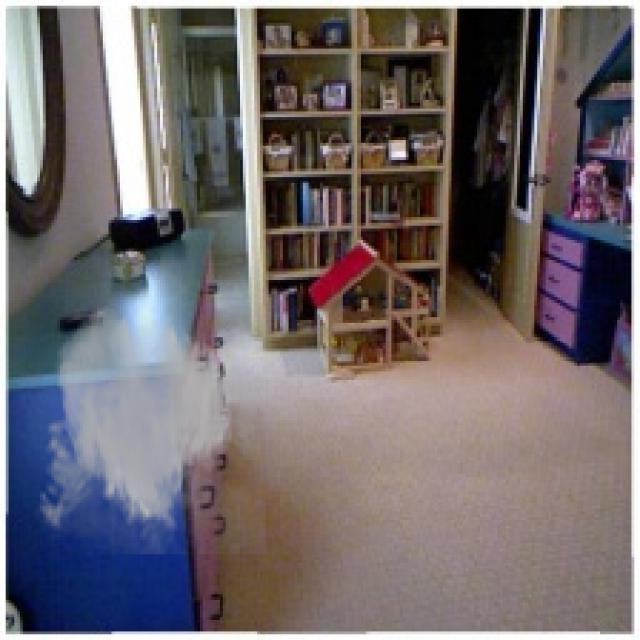Smoke: (31, 302, 266, 554)
